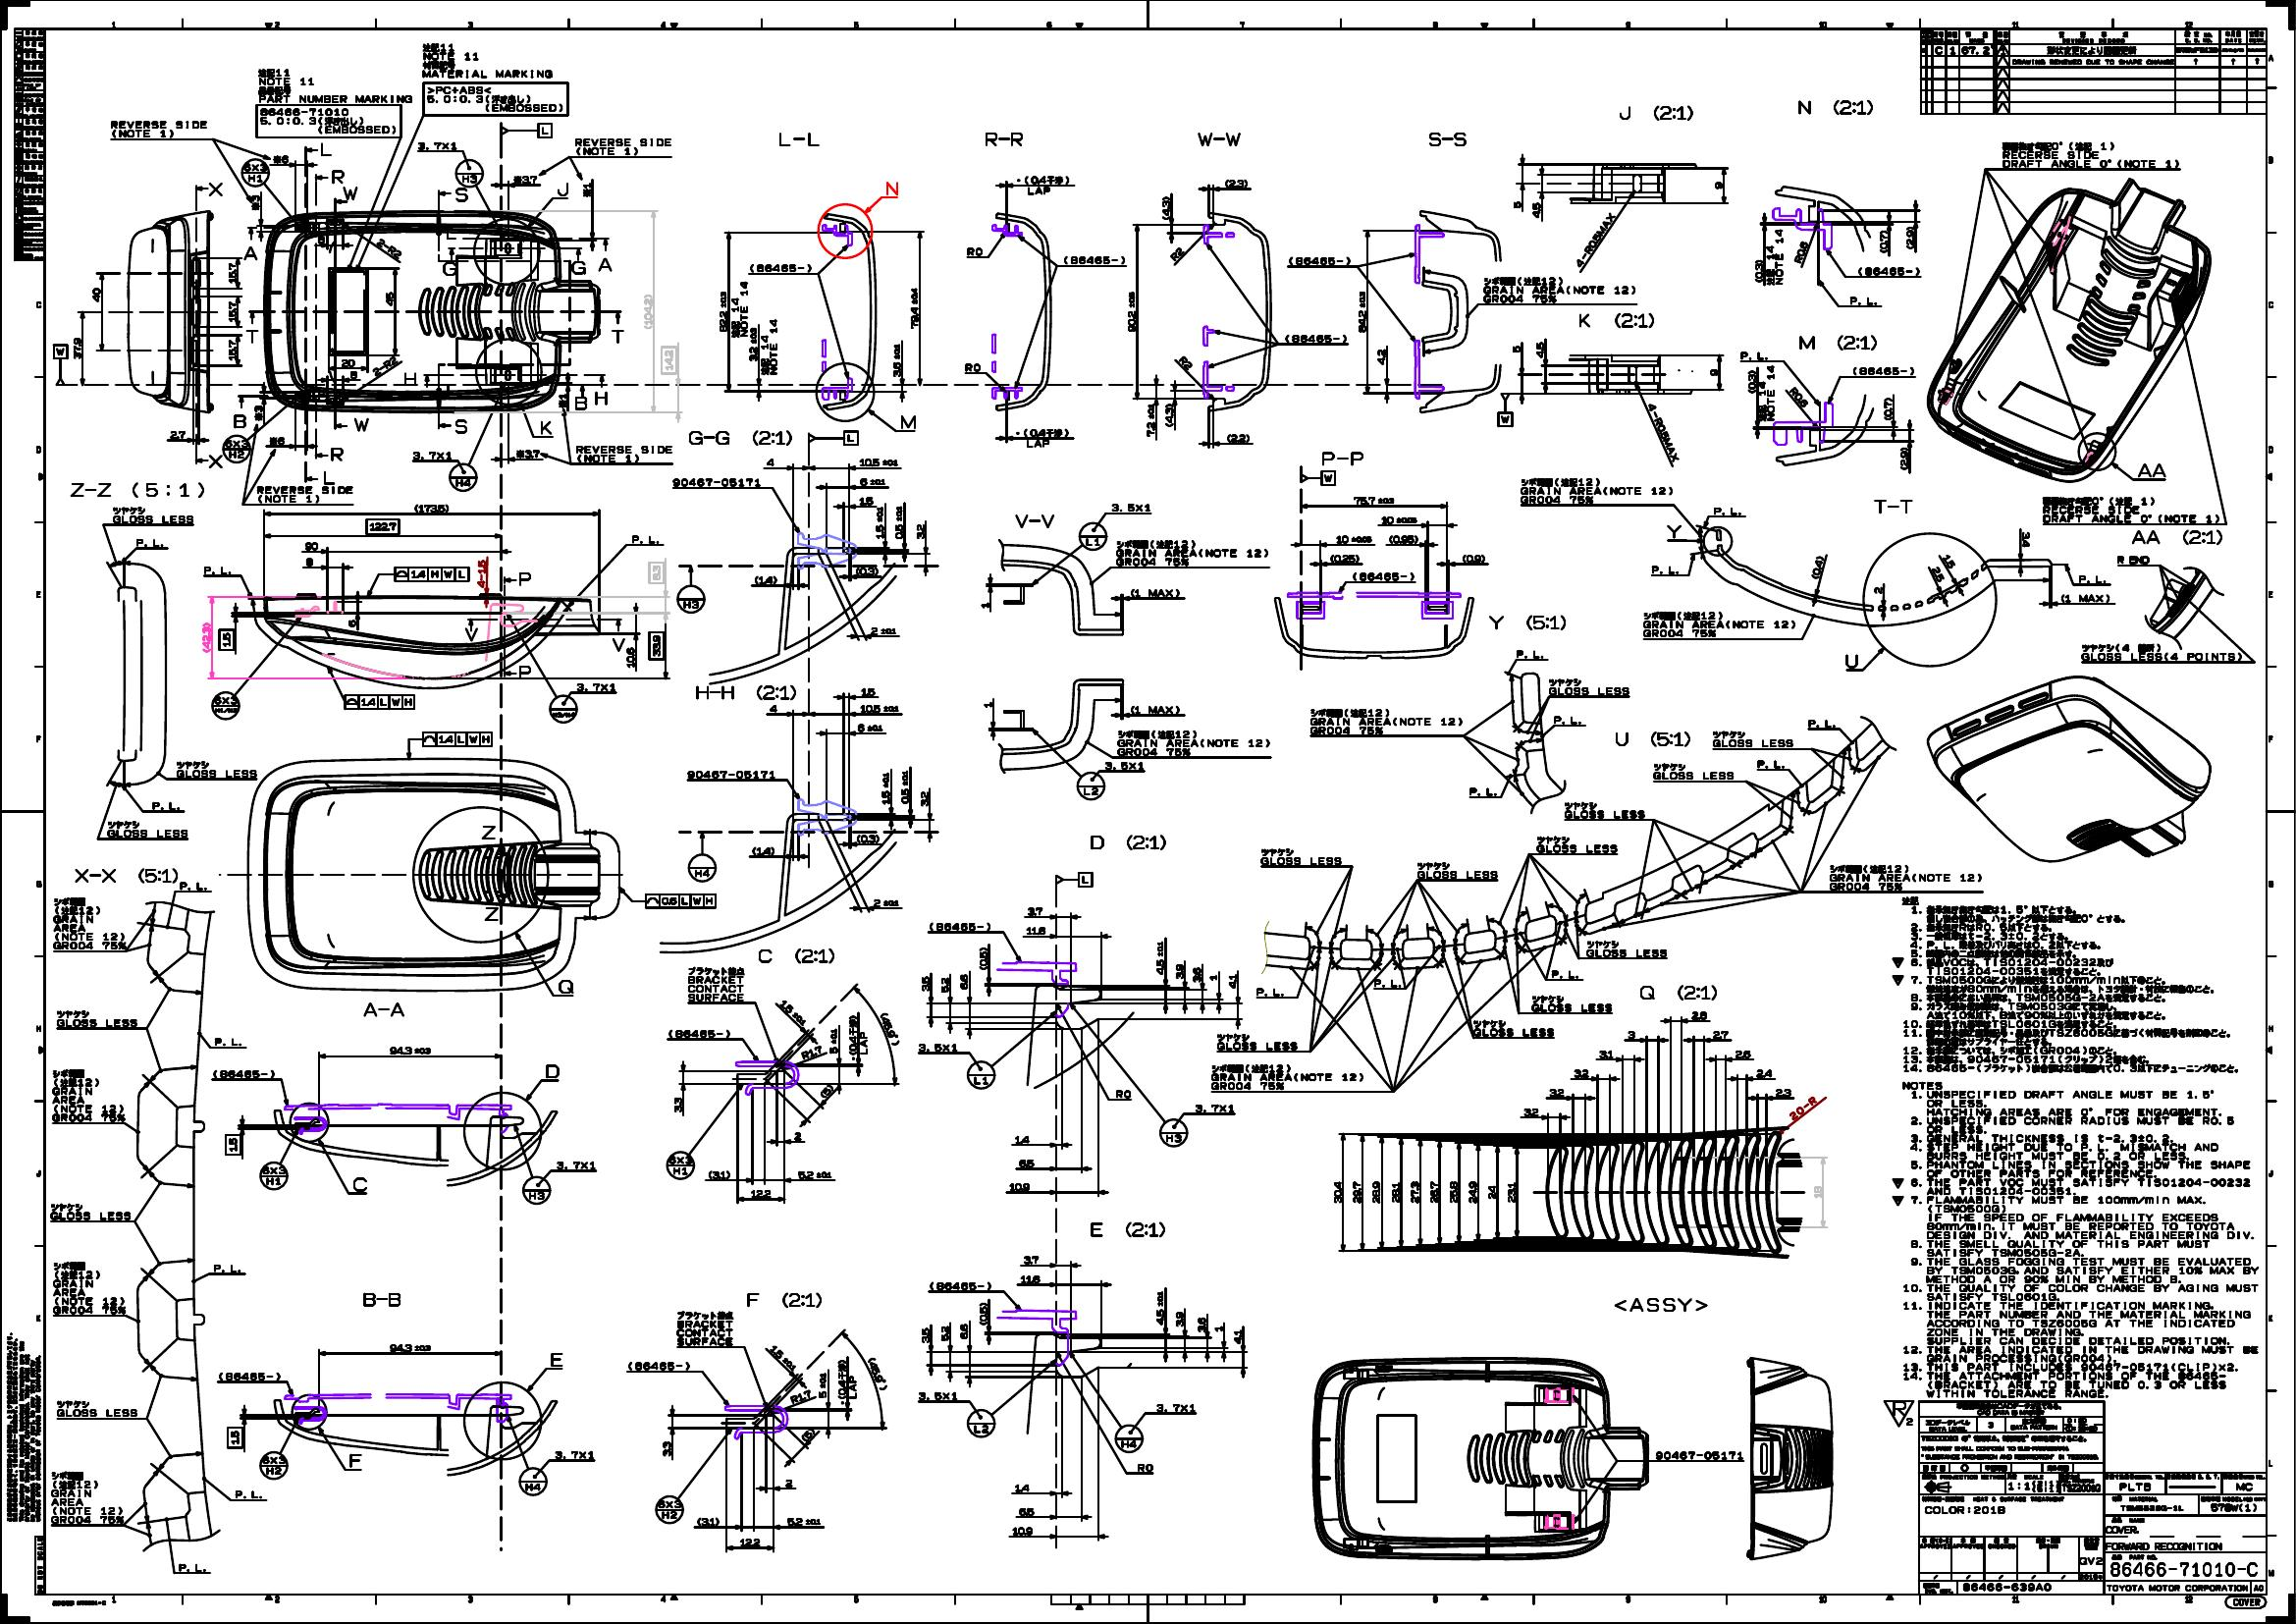anntotation_text: (1892, 1079, 2261, 1399), (1888, 895, 2242, 1076), (4, 1329, 42, 1522), (1999, 139, 2182, 169), (2041, 494, 2220, 524), (422, 81, 566, 114), (1518, 475, 1676, 504), (1307, 705, 1465, 735), (1481, 272, 1637, 302), (256, 105, 401, 137), (1209, 1062, 1367, 1090), (1641, 610, 1797, 638), (1827, 861, 1982, 889), (49, 1067, 126, 1123), (1114, 540, 1270, 566), (1116, 729, 1272, 756), (51, 1260, 126, 1315), (49, 1469, 125, 1524), (53, 898, 128, 949), (2080, 642, 2243, 661), (69, 480, 206, 501), (256, 86, 415, 104), (1607, 1292, 1709, 1318), (754, 940, 843, 967), (685, 967, 748, 1004), (689, 429, 794, 450), (1792, 93, 1876, 120), (675, 1308, 734, 1345), (420, 62, 555, 77), (255, 483, 353, 504), (107, 120, 211, 139), (694, 682, 796, 701), (2131, 529, 2224, 550), (573, 135, 673, 155), (1084, 1218, 1168, 1241), (574, 443, 673, 462), (1635, 979, 1718, 1002), (111, 503, 193, 526), (1528, 993, 1614, 1014), (1260, 845, 1346, 866), (1414, 859, 1500, 881), (1534, 833, 1620, 854), (1087, 831, 1166, 854), (743, 1290, 826, 1311), (1214, 1032, 1302, 1051), (1576, 309, 1655, 330), (72, 866, 177, 882), (1794, 332, 1880, 352), (174, 759, 260, 779), (105, 819, 191, 838), (53, 1009, 139, 1028), (1562, 801, 1648, 821), (1616, 102, 1693, 123), (47, 1202, 132, 1222), (1472, 1018, 1556, 1037), (1486, 613, 1569, 633), (1585, 939, 1665, 958), (1546, 678, 1634, 696), (1613, 731, 1692, 750), (54, 1399, 141, 1417), (1014, 172, 1070, 199), (683, 766, 775, 782), (1713, 729, 1794, 747), (1653, 763, 1734, 780), (1762, 225, 1785, 286), (669, 475, 764, 489), (420, 40, 481, 62), (757, 316, 778, 378), (1883, 1394, 1917, 1432), (1655, 1448, 1746, 1462), (256, 65, 314, 86), (1757, 364, 1778, 422), (1008, 429, 1070, 448), (343, 692, 415, 708), (645, 893, 717, 909), (729, 279, 748, 337), (256, 1448, 290, 1482), (836, 1355, 857, 1408), (847, 1011, 868, 1062), (1558, 230, 1634, 244), (926, 1276, 993, 1292), (515, 1466, 550, 1496), (1012, 508, 1058, 531), (393, 566, 467, 580), (422, 731, 494, 745), (1158, 1118, 1189, 1149), (652, 1492, 685, 1522), (964, 1408, 998, 1438), (1112, 1424, 1145, 1454), (1848, 364, 1918, 378), (360, 998, 411, 1018), (548, 692, 580, 722), (258, 1160, 290, 1190), (966, 1060, 996, 1091), (666, 1148, 696, 1179), (1857, 264, 1924, 278), (1351, 568, 1418, 582), (1073, 772, 1107, 800), (666, 1026, 733, 1040), (748, 260, 813, 274), (1284, 330, 1349, 344), (1627, 425, 1700, 438), (1077, 520, 1107, 550), (239, 156, 271, 185), (689, 851, 715, 884), (1318, 448, 1367, 466), (982, 128, 1022, 149), (1873, 496, 1913, 517), (358, 1290, 402, 1309), (221, 434, 251, 462), (675, 585, 704, 613), (522, 1174, 550, 1204), (1195, 130, 1242, 148), (216, 1371, 283, 1383), (624, 1359, 690, 1371), (808, 429, 859, 445), (778, 130, 824, 148), (1059, 253, 1124, 265), (448, 462, 476, 490), (211, 691, 239, 719), (455, 156, 481, 186), (1286, 253, 1349, 265), (211, 1067, 274, 1079), (926, 921, 994, 932), (33, 1536, 46, 1594), (1426, 130, 1467, 148), (497, 123, 553, 135), (1054, 872, 1093, 889), (2059, 591, 2113, 603), (1128, 701, 1182, 714), (53, 343, 69, 385), (1130, 585, 1182, 598), (2224, 1594, 2268, 1608), (2134, 462, 2170, 480), (1843, 290, 1881, 306), (51, 1598, 107, 1608), (1300, 469, 1335, 485), (1497, 392, 1513, 425), (176, 1561, 211, 1575), (1465, 784, 1498, 798), (232, 1485, 265, 1499), (211, 1260, 244, 1274), (1806, 715, 1838, 729), (213, 1032, 244, 1046), (1514, 647, 1548, 659), (1254, 986, 1288, 998), (1755, 758, 1788, 770), (898, 413, 921, 431), (1713, 504, 1744, 517), (202, 564, 234, 576), (148, 800, 184, 810), (2078, 571, 2108, 584), (135, 536, 165, 548), (179, 879, 209, 891), (1372, 977, 1402, 990), (594, 388, 610, 411), (1551, 714, 1585, 724), (1549, 968, 1583, 979), (1736, 350, 1769, 360), (1665, 524, 1685, 541), (346, 1452, 365, 1469), (351, 1174, 369, 1193), (555, 977, 574, 995), (573, 394, 588, 415), (1650, 564, 1681, 575), (629, 533, 661, 543), (548, 1350, 564, 1371), (327, 165, 344, 183), (451, 186, 469, 204), (453, 417, 471, 434), (543, 1062, 560, 1079), (339, 185, 358, 200), (571, 258, 587, 278), (230, 411, 246, 431), (242, 244, 258, 264), (884, 178, 899, 197), (515, 571, 531, 591), (320, 139, 334, 160), (441, 258, 457, 276), (353, 417, 369, 434), (1843, 652, 1859, 670), (555, 179, 569, 199), (481, 823, 495, 842), (596, 257, 611, 272), (539, 418, 555, 434), (321, 471, 337, 487), (244, 327, 260, 343), (515, 664, 531, 680), (483, 907, 499, 923), (207, 450, 221, 468), (611, 634, 625, 652), (207, 181, 223, 195), (399, 371, 416, 383), (330, 448, 344, 462), (464, 626, 478, 640), (611, 327, 622, 344)
dimension_text: (1100, 758, 1149, 773), (1349, 494, 1397, 508), (1193, 1100, 1237, 1114), (915, 1387, 959, 1401), (411, 448, 453, 462), (1356, 288, 1368, 334), (386, 1044, 432, 1056), (882, 1009, 896, 1048), (871, 1353, 885, 1392), (915, 1040, 959, 1053), (1154, 1401, 1198, 1413), (641, 290, 653, 332), (1785, 1102, 1822, 1116), (1108, 501, 1151, 513), (857, 701, 899, 714), (778, 1004, 815, 1018), (785, 1513, 822, 1527), (857, 455, 899, 468), (413, 501, 450, 515), (386, 1341, 434, 1352), (416, 139, 457, 151), (1333, 533, 1374, 545), (576, 680, 617, 692), (553, 1448, 594, 1461), (367, 359, 402, 373), (889, 341, 901, 380), (662, 346, 678, 376), (365, 518, 399, 533), (717, 290, 727, 334), (1126, 288, 1137, 332), (553, 1160, 597, 1171), (1144, 401, 1156, 438), (2115, 554, 2152, 566), (766, 1352, 803, 1364), (898, 766, 908, 808), (369, 243, 404, 255), (1152, 1290, 1165, 1325), (1154, 939, 1165, 979), (875, 503, 885, 543), (975, 944, 989, 974), (908, 285, 917, 332), (892, 504, 903, 543), (1008, 1522, 1036, 1536), (870, 622, 898, 636), (1783, 390, 1815, 402), (1386, 531, 1418, 543), (880, 772, 891, 808), (796, 1169, 833, 1179), (474, 557, 487, 589), (1484, 1179, 1498, 1206), (1426, 1179, 1440, 1206), (1349, 1178, 1363, 1204), (650, 631, 664, 657), (1797, 236, 1809, 265), (750, 844, 780, 856), (1903, 225, 1917, 250), (1444, 1179, 1458, 1204), (1390, 1179, 1404, 1204), (1017, 1271, 1042, 1285), (704, 1169, 733, 1181), (754, 573, 778, 587), (218, 629, 235, 649), (917, 974, 933, 995), (856, 721, 887, 731), (202, 620, 213, 652), (228, 1427, 244, 1448), (1751, 257, 1764, 283), (1744, 369, 1757, 395), (1407, 1179, 1419, 1206), (1462, 554, 1488, 566), (696, 1513, 722, 1526), (787, 1390, 813, 1403), (1226, 431, 1249, 445), (975, 1302, 989, 1325), (1015, 1503, 1038, 1517), (1328, 552, 1358, 562), (871, 896, 901, 907), (817, 1371, 827, 1401), (1381, 515, 1416, 524), (648, 562, 664, 582), (1932, 564, 1945, 589), (1505, 1179, 1518, 1204), (1465, 1179, 1477, 1204), (1368, 1178, 1381, 1202), (1333, 1179, 1346, 1204), (1007, 1179, 1031, 1192), (738, 1534, 762, 1547), (854, 564, 878, 576), (511, 174, 539, 185), (1899, 446, 1910, 475), (1026, 924, 1047, 939), (1012, 1130, 1033, 1144), (1569, 1065, 1592, 1077), (1518, 1106, 1541, 1118), (227, 336, 237, 362), (515, 448, 541, 459), (1159, 195, 1170, 221), (856, 833, 882, 844), (798, 1048, 824, 1058), (964, 244, 984, 258), (963, 359, 982, 373), (1690, 1009, 1709, 1023), (1012, 1480, 1031, 1494), (829, 1026, 838, 1056), (857, 475, 887, 483), (72, 334, 83, 359), (1224, 178, 1249, 188), (1163, 401, 1173, 425), (1883, 397, 1894, 422), (1880, 228, 1890, 253), (1114, 1088, 1135, 1100), (1173, 1309, 1186, 1330), (957, 1320, 970, 1341), (938, 1322, 950, 1343), (1133, 1461, 1158, 1471), (1021, 1253, 1042, 1265), (748, 1188, 773, 1199), (661, 1438, 673, 1459), (1809, 1183, 1823, 1200), (227, 1135, 241, 1153), (227, 299, 237, 322), (1815, 555, 1825, 578), (272, 151, 292, 163), (1375, 346, 1388, 366), (1226, 970, 1238, 990), (1231, 1327, 1244, 1346), (917, 1325, 929, 1345), (857, 685, 877, 698), (856, 494, 875, 506), (249, 193, 260, 214), (227, 262, 237, 283), (90, 283, 100, 304), (1548, 1086, 1569, 1097), (1024, 905, 1045, 916), (1212, 1318, 1223, 1339), (625, 647, 636, 668), (581, 181, 594, 199), (383, 290, 395, 308), (1943, 554, 1955, 571), (2020, 531, 2032, 548), (1734, 1048, 1751, 1060), (1173, 963, 1186, 981), (919, 791, 931, 808), (798, 1429, 815, 1441), (253, 404, 264, 424), (1207, 968, 1217, 988), (940, 975, 950, 995), (1017, 1156, 1036, 1167), (1196, 1315, 1207, 1334), (671, 1095, 682, 1114), (269, 434, 285, 446), (1755, 1067, 1771, 1079), (1168, 250, 1189, 258), (1175, 357, 1196, 366), (1534, 339, 1544, 357), (1530, 202, 1541, 220), (1597, 1048, 1614, 1058), (1189, 963, 1200, 981), (917, 522, 926, 543), (782, 1475, 796, 1487), (1773, 1086, 1792, 1095), (1711, 1026, 1727, 1037), (169, 429, 186, 438), (1873, 584, 1885, 596), (304, 555, 316, 568), (346, 369, 360, 380), (1708, 366, 1718, 380), (791, 1130, 805, 1141), (304, 540, 318, 550), (339, 359, 355, 367), (959, 974, 968, 990), (817, 1086, 833, 1095), (1509, 343, 1521, 353), (1713, 179, 1723, 192), (978, 599, 991, 610), (980, 698, 993, 708), (766, 705, 780, 714), (1625, 1026, 1635, 1037), (764, 457, 775, 468), (1513, 199, 1521, 211), (346, 617, 355, 629), (316, 236, 323, 246)
object: (1263, 724, 1885, 967), (1925, 176, 2213, 483), (246, 758, 620, 993), (1310, 1355, 1650, 1559), (262, 211, 599, 415), (1924, 671, 2215, 863), (661, 798, 899, 954), (1546, 1130, 1806, 1253), (246, 596, 574, 692), (1773, 185, 1878, 468), (704, 531, 899, 684), (1716, 529, 2055, 617), (1000, 541, 1126, 773), (172, 909, 214, 1541), (271, 1102, 557, 1190), (269, 1392, 557, 1478), (1414, 211, 1505, 415), (1744, 1355, 1834, 1561), (126, 207, 214, 415), (1200, 211, 1272, 410), (107, 559, 167, 789), (1272, 592, 1476, 659), (991, 211, 1052, 411), (819, 209, 877, 415), (2143, 564, 2226, 649), (1521, 673, 1565, 800), (996, 960, 1084, 1021), (1570, 162, 1697, 204), (1567, 353, 1693, 395), (994, 1308, 1079, 1367), (722, 1403, 791, 1438), (733, 1060, 799, 1095)
title_block: (1917, 1401, 2266, 1594), (1922, 28, 2266, 116), (14, 28, 44, 262)
